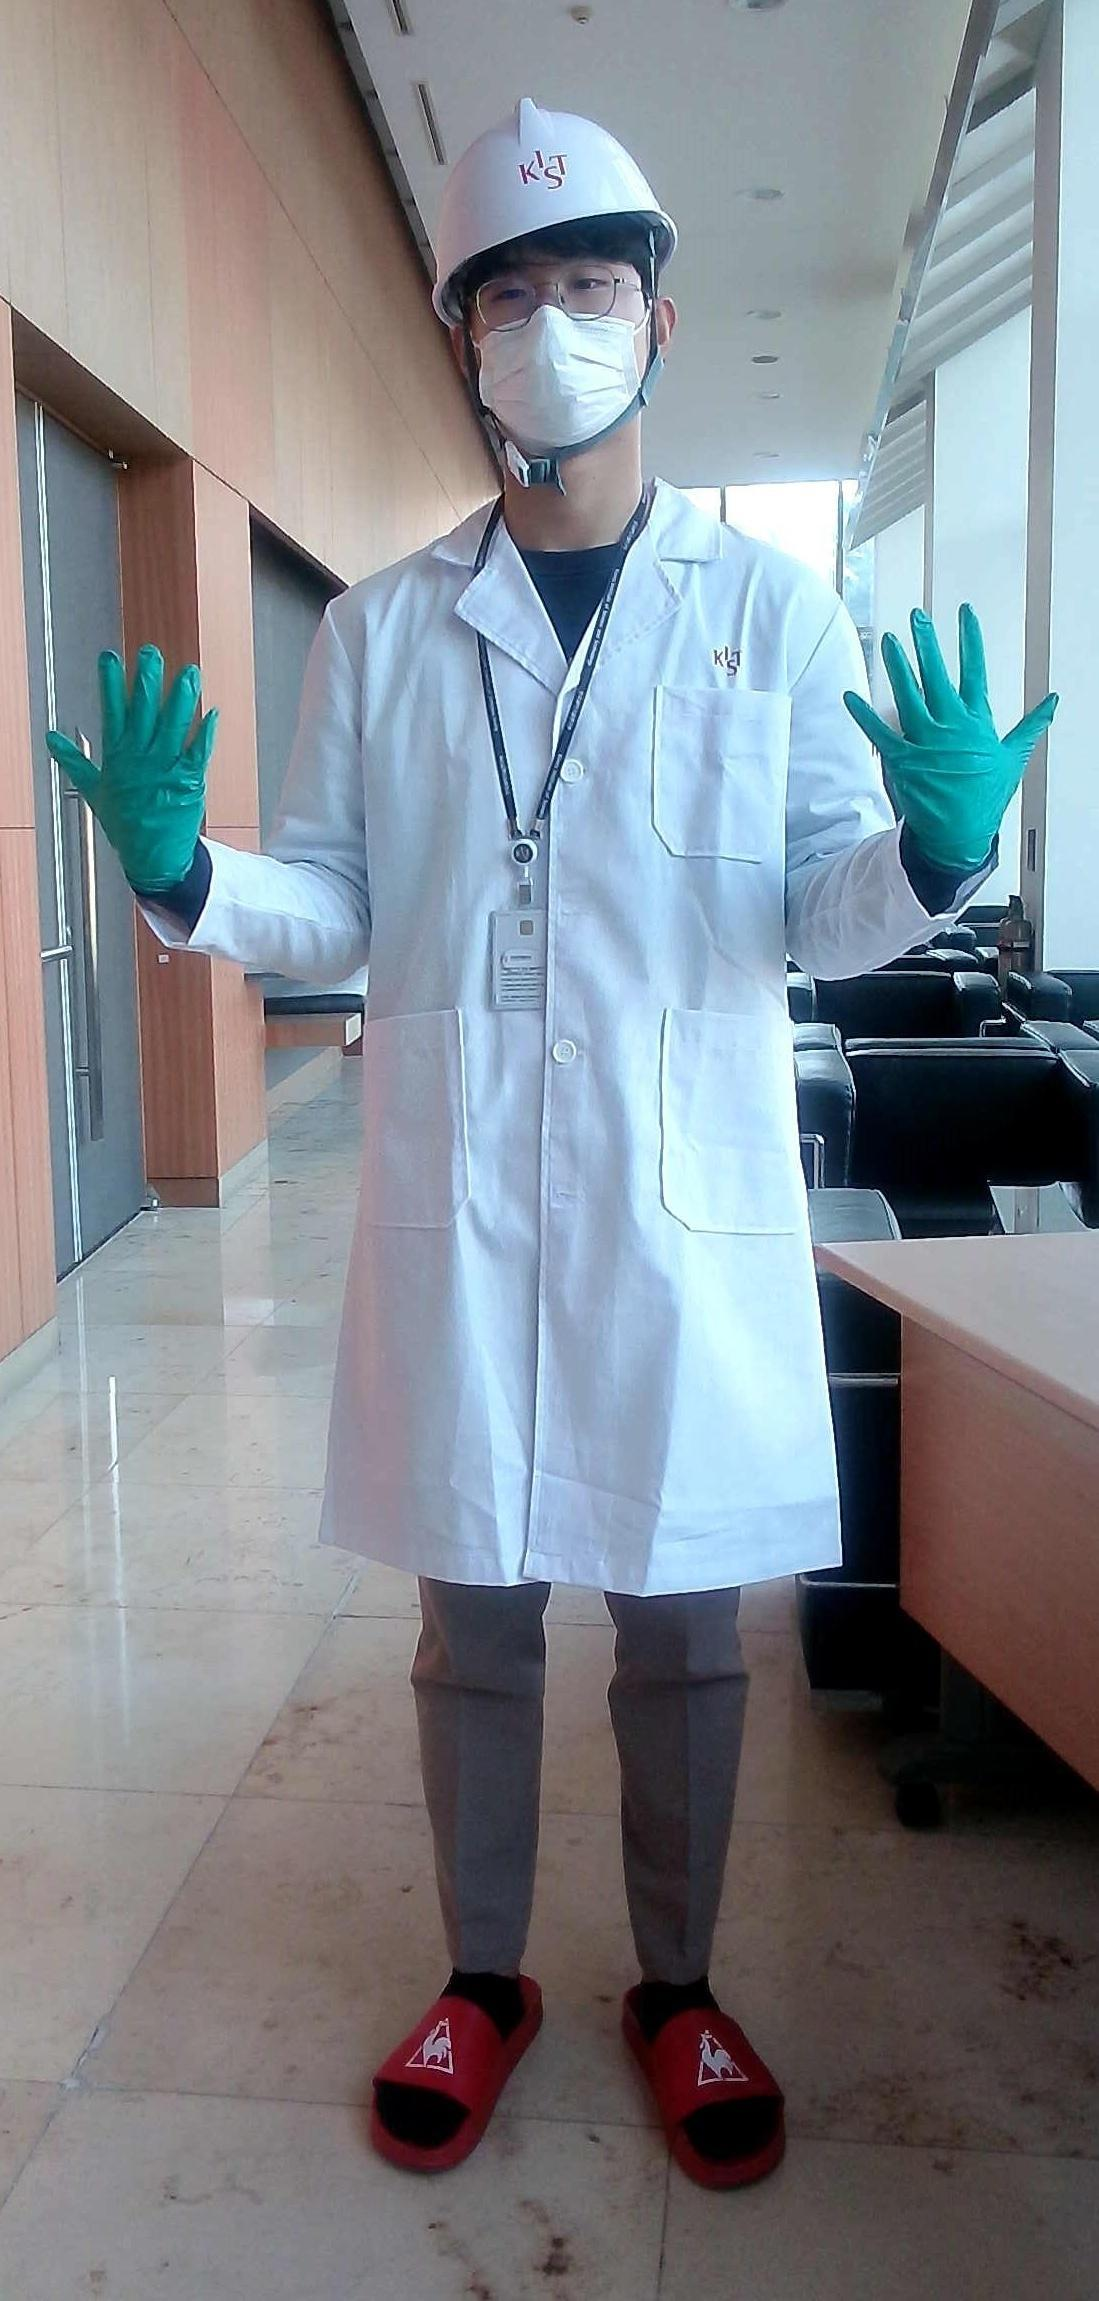lab_coat: (261, 550, 844, 1592)
